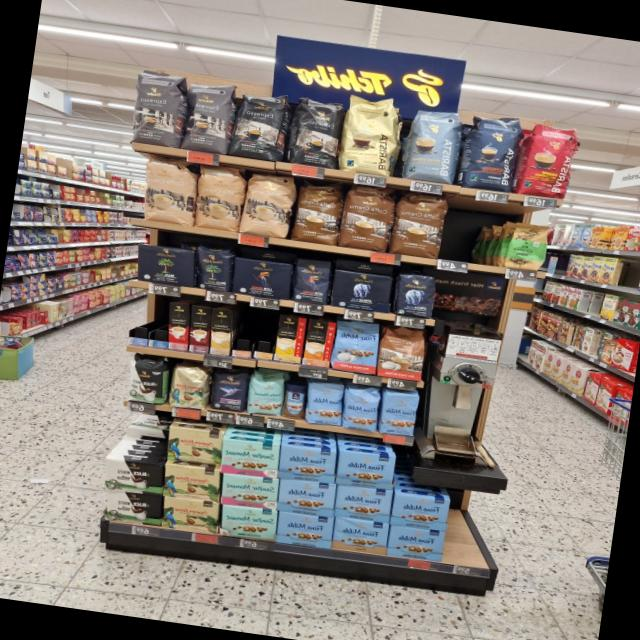AB Bohne: (393, 270, 438, 319)
AB Gemahlen: (330, 267, 394, 314)
Athiopien Bohne: (504, 220, 552, 274)
BM Bohne: (192, 242, 234, 294)
BM Gemahlen: (132, 243, 196, 289)
BW Bohne: (123, 354, 171, 407)
BW Gemahlen: (100, 454, 165, 496), (101, 486, 163, 527)
Barista CB: (338, 91, 404, 177)
Barista CC: (402, 106, 464, 184)
Barista Espresso: (458, 111, 525, 194)
Barista Kolumbien: (516, 120, 583, 202)
C Fino Bohne: (208, 365, 250, 414)
CC Mild: (139, 156, 198, 226), (240, 170, 296, 240), (192, 164, 248, 234)
CC Vollmundig: (376, 326, 430, 384)
CC Vollmundig 36 Pads: (390, 189, 450, 260), (338, 182, 398, 253), (290, 176, 345, 246)
Colombia BB Bohne: (168, 363, 212, 412)
Colombia BB Gemahlen: (160, 459, 222, 504), (165, 423, 224, 468), (160, 494, 221, 536)
Empty Shelf: (444, 195, 511, 266), (253, 312, 279, 354), (128, 298, 154, 339), (232, 308, 256, 352), (150, 301, 168, 342)
Espresso Aromatisch: (128, 66, 188, 148), (180, 74, 240, 156)
Espresso Kraftig: (229, 87, 289, 162), (286, 95, 346, 170)
FM 36 Pads: (331, 317, 382, 375)
FM Bohne: (378, 389, 421, 438), (341, 383, 382, 433), (304, 378, 345, 428)
FM Gemahlen: (336, 448, 398, 492), (276, 442, 338, 486), (390, 491, 450, 533), (333, 483, 393, 524), (277, 477, 337, 518), (275, 511, 335, 551), (332, 516, 389, 556), (387, 526, 446, 562)
FM Instant: (280, 381, 308, 422)
LG Bohne: (291, 256, 333, 306)
LG Gemahlen: (230, 255, 294, 301)
SM Bohne: (244, 368, 286, 418)
SM Gemahlen: (218, 436, 281, 481), (220, 471, 280, 512), (218, 503, 278, 543)
Simo CCMild: (274, 315, 307, 364)
Simo CCVollmundig: (302, 319, 336, 368)
Simo Decaff: (210, 308, 231, 355)
Simo Es Brazil: (168, 302, 189, 351)
Simo Es Caramel: (188, 305, 212, 352)
